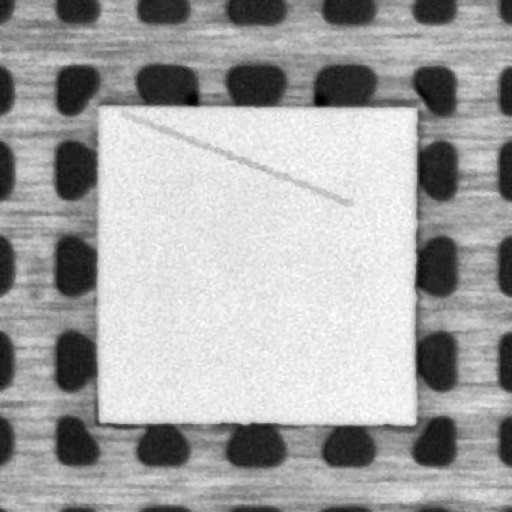DIE_CRACK: (120, 112, 347, 202)
